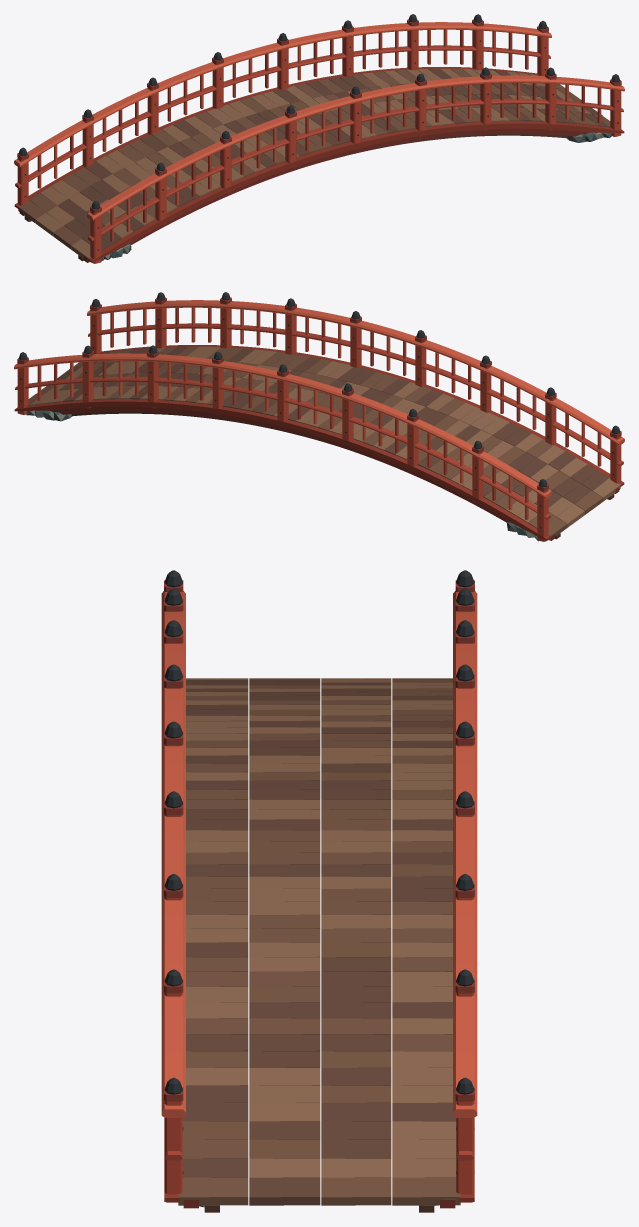
File: bridge.glb
3 views of the same model, one above another, from view 1: azimuth 30°, elevation 25°; view 2: azimuth 150°, elevation 25°; view 3: azimuth 270°, elevation 25° (orthographic). The views are drawn at different scales.
Parts seen in each view (by area): view 1: Scored cedar deck and edge stringers, Vermilion handrails and pinned joinery, Post finials and metal fittings, Wet stone springers and seats; view 2: Scored cedar deck and edge stringers, Vermilion handrails and pinned joinery, Post finials and metal fittings, Wet stone springers and seats; view 3: Scored cedar deck and edge stringers, Vermilion handrails and pinned joinery, Post finials and metal fittings.
Boxes of the visible parts, bbox=[...] form: Scored cedar deck and edge stringers: bbox=[14, 67, 624, 262]; Vermilion handrails and pinned joinery: bbox=[14, 22, 624, 263]; Post finials and metal fittings: bbox=[17, 14, 621, 250]; Wet stone springers and seats: bbox=[101, 132, 611, 260]; Scored cedar deck and edge stringers: bbox=[14, 345, 624, 540]; Vermilion handrails and pinned joinery: bbox=[14, 300, 624, 541]; Post finials and metal fittings: bbox=[17, 292, 621, 528]; Wet stone springers and seats: bbox=[26, 410, 538, 541]; Scored cedar deck and edge stringers: bbox=[164, 678, 474, 1212]; Vermilion handrails and pinned joinery: bbox=[161, 591, 477, 1202]; Post finials and metal fittings: bbox=[164, 570, 474, 1173].
Size of the model in its own units: 14 by 2.91 by 3.6.
3 materials, 1 textured.
